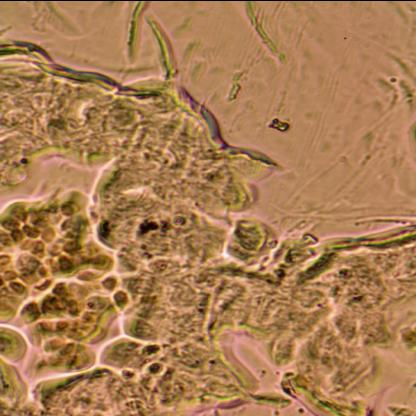Normal: (0, 104, 262, 416), (0, 220, 416, 416)
